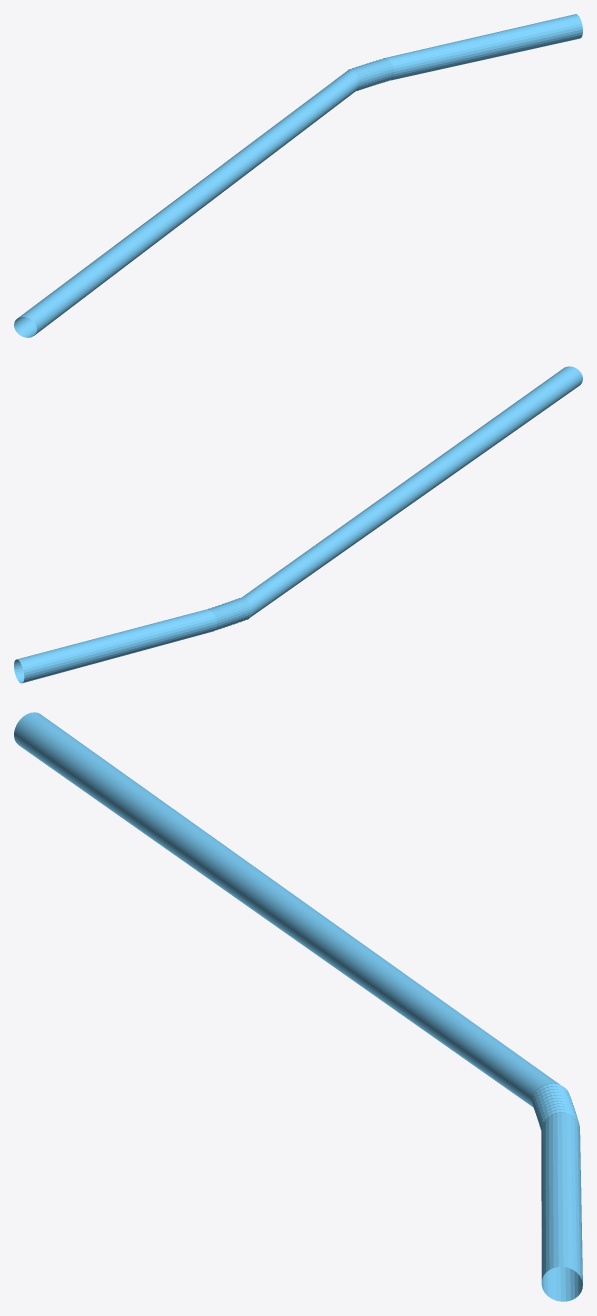
The model's file is straw.fbx.
3 renders of one model, top to bottom at view 1: azimuth 30°, elevation 25°; view 2: azimuth 210°, elevation 25°; view 3: azimuth 270°, elevation 25°, orthographic. The views are drawn at different scales.
Visible parts, largest first — view 1: Cylinder004; view 2: Cylinder004; view 3: Cylinder004.
Part boxes in pixels (<box>): Cylinder004: <box>14,14,582,337</box>; Cylinder004: <box>14,366,582,683</box>; Cylinder004: <box>14,712,582,1301</box>.
Size of the model in its own units: 17.61 by 0.6588 by 7.48.
